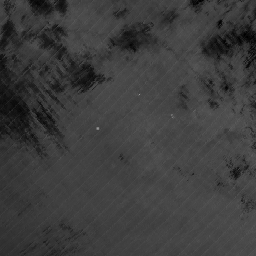Target: (94, 124, 101, 132)
